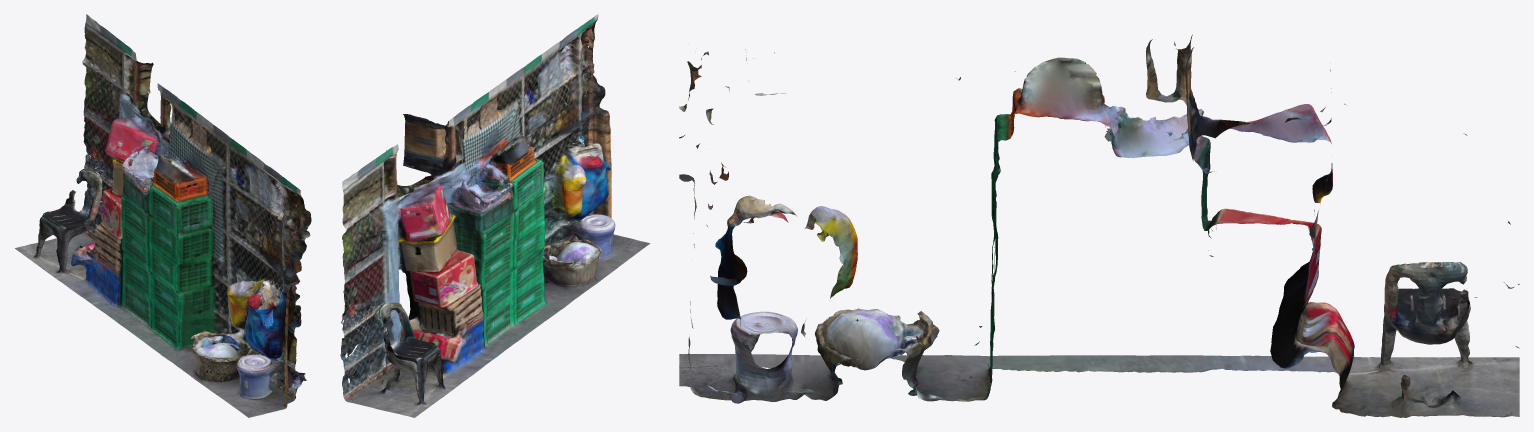
Rendered from crates_and_boxes_at_the_back_of_an_asian_store.glb.
The picture shows the model from 3 angles, left to right: view 1: azimuth 30°, elevation 25°; view 2: azimuth 150°, elevation 25°; view 3: azimuth 270°, elevation 25°; orthographic projection. The views are drawn at different scales.
Visible parts, largest first — view 1: Object_5, Object_4, Object_6; view 2: Object_4, Object_5, Object_6; view 3: Object_4, Object_5.
Part boxes in pixels (box(x1,y1,x2,y2)): Object_5: box(20, 18, 305, 415); Object_4: box(15, 14, 311, 417); Object_6: box(162, 200, 277, 374); Object_4: box(340, 14, 650, 417); Object_5: box(341, 16, 645, 415); Object_6: box(524, 105, 579, 309); Object_4: box(679, 34, 1519, 417); Object_5: box(680, 41, 1518, 417).
Bounding box in the file's own units: 1.02 × 2.1 × 4.05.
Materials: 1 (1 with a texture image).
